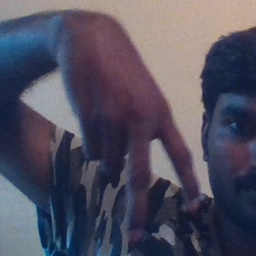Y: (70, 53, 206, 243)
